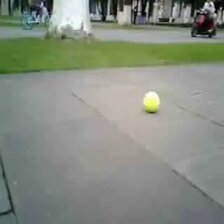tennis: (143, 91, 160, 113)
